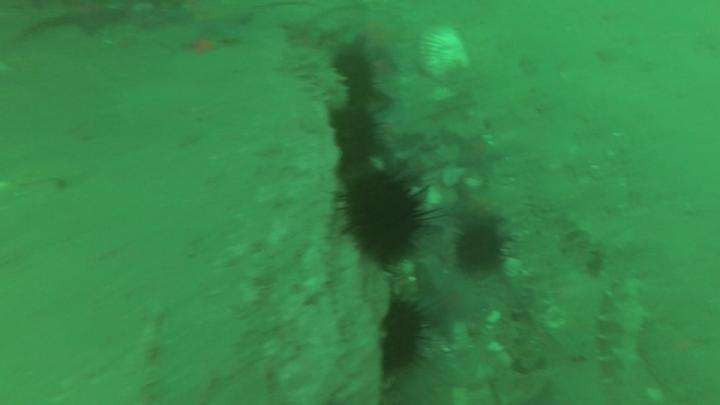echinus: (346, 179, 419, 258), (382, 306, 419, 372), (336, 111, 379, 162), (457, 227, 502, 272), (339, 53, 374, 93)
holothurian: (596, 277, 646, 391), (291, 49, 343, 102)
scallop: (421, 27, 472, 82)
starfish: (413, 262, 486, 334), (196, 13, 253, 45), (457, 133, 499, 173)
